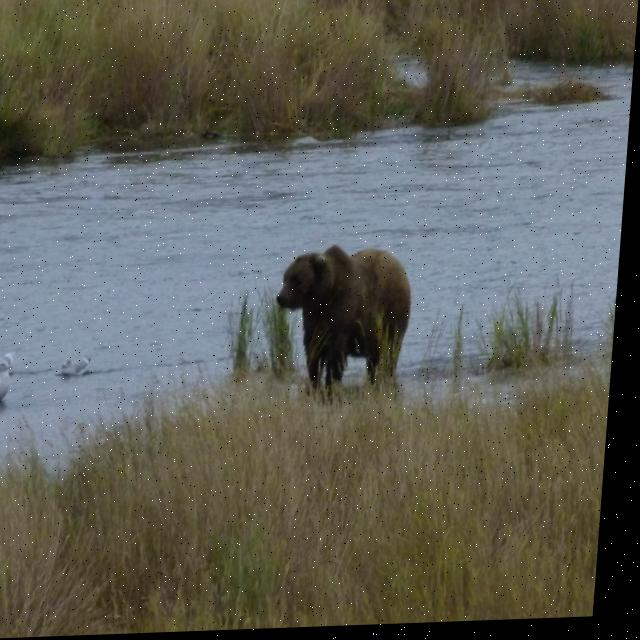bear face: (274, 243, 420, 391)
